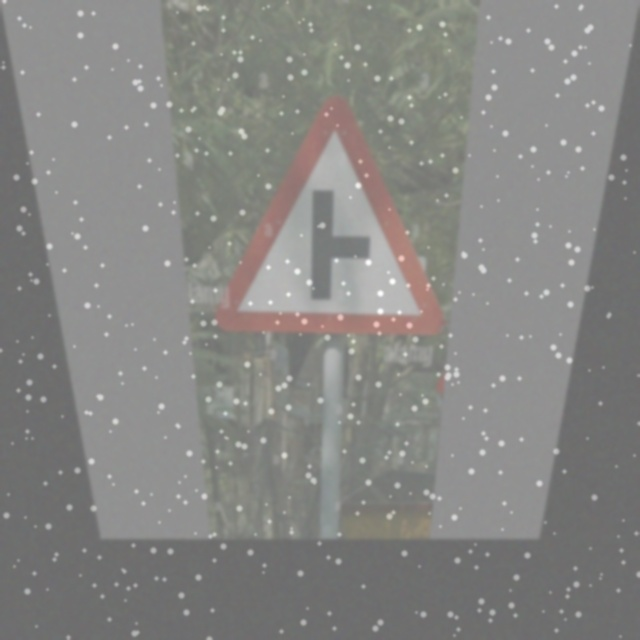Side_Road_Right: (203, 93, 463, 339)
